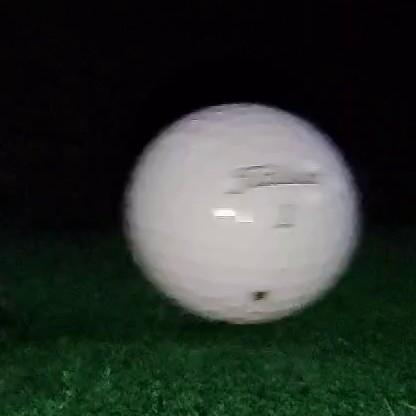golfball: (126, 104, 357, 323)
